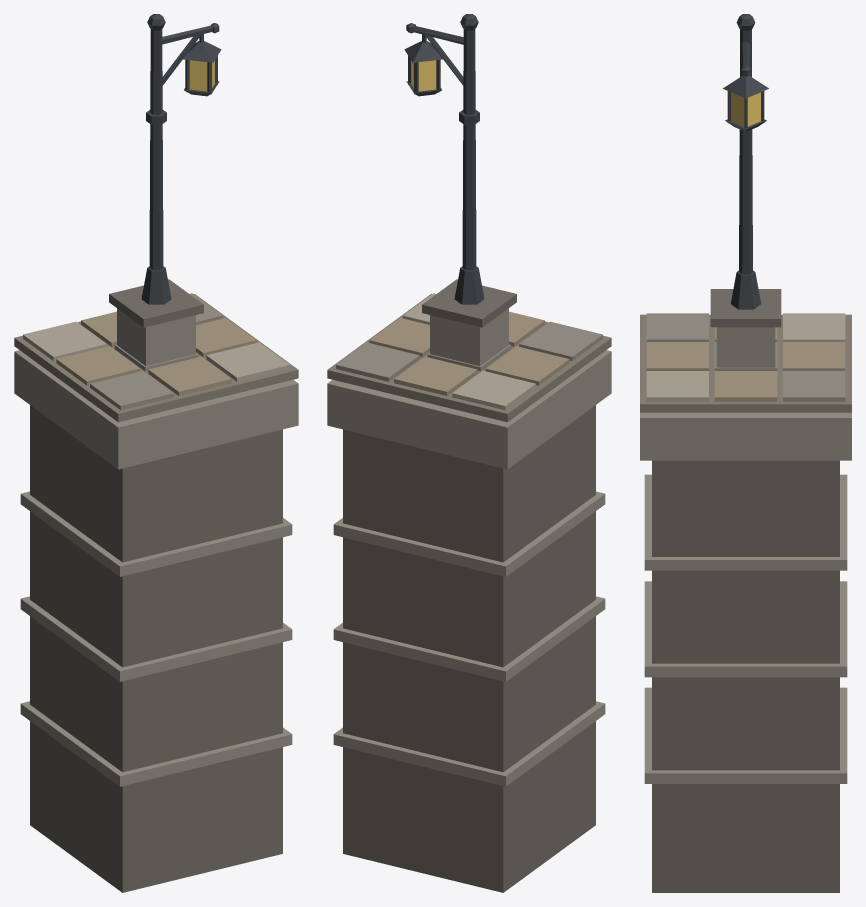
Rendered from decor_lamp_post.glb.
The picture shows the model from 3 angles, left to right: view 1: azimuth 30°, elevation 25°; view 2: azimuth 150°, elevation 25°; view 3: azimuth 270°, elevation 25°; orthographic projection.
Visible parts, largest first — view 1: decor_lamp_post; view 2: decor_lamp_post; view 3: decor_lamp_post.
Part boxes in pixels (x1,y1,x2,y2): decor_lamp_post: (14, 14, 298, 892); decor_lamp_post: (327, 14, 611, 892); decor_lamp_post: (640, 14, 851, 892).
Bounding box in the file's own units: 1.8 × 7.87 × 1.8.
